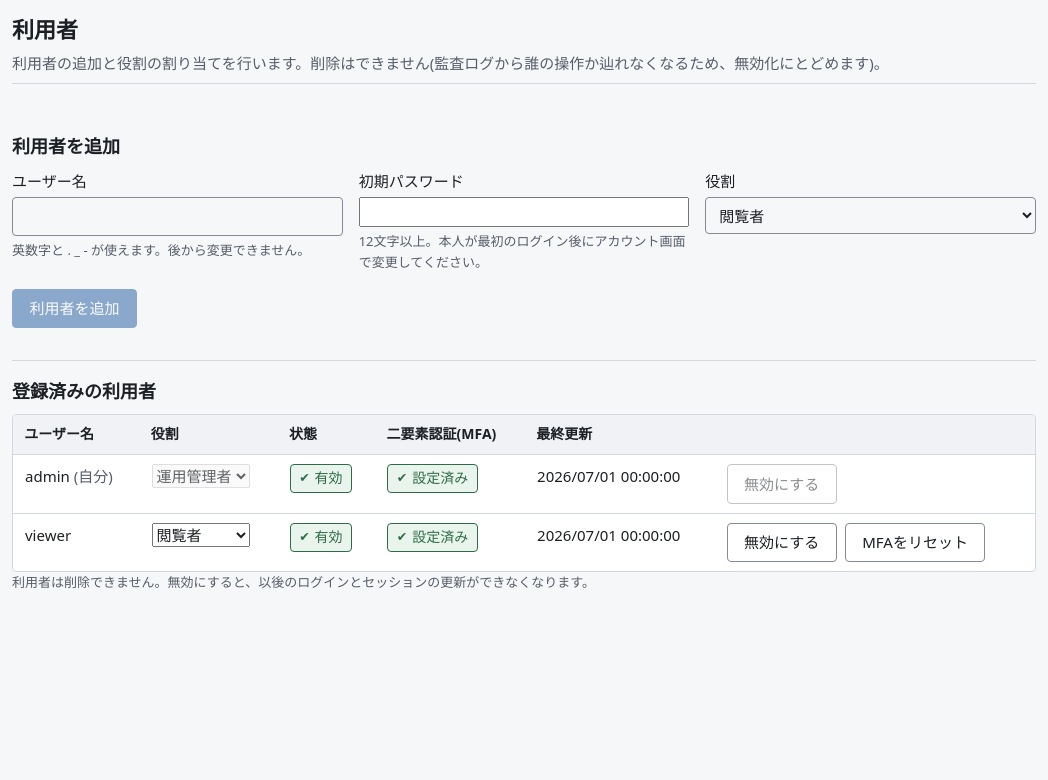
Test case: UsersView › 最後の管理者を降格しようとしたら理由を出す
The width and height of the screenshot is (1048, 780).
Select "閲覧者" in the dropdown with id "role-2" at [201, 535], box [152,523,250,547]
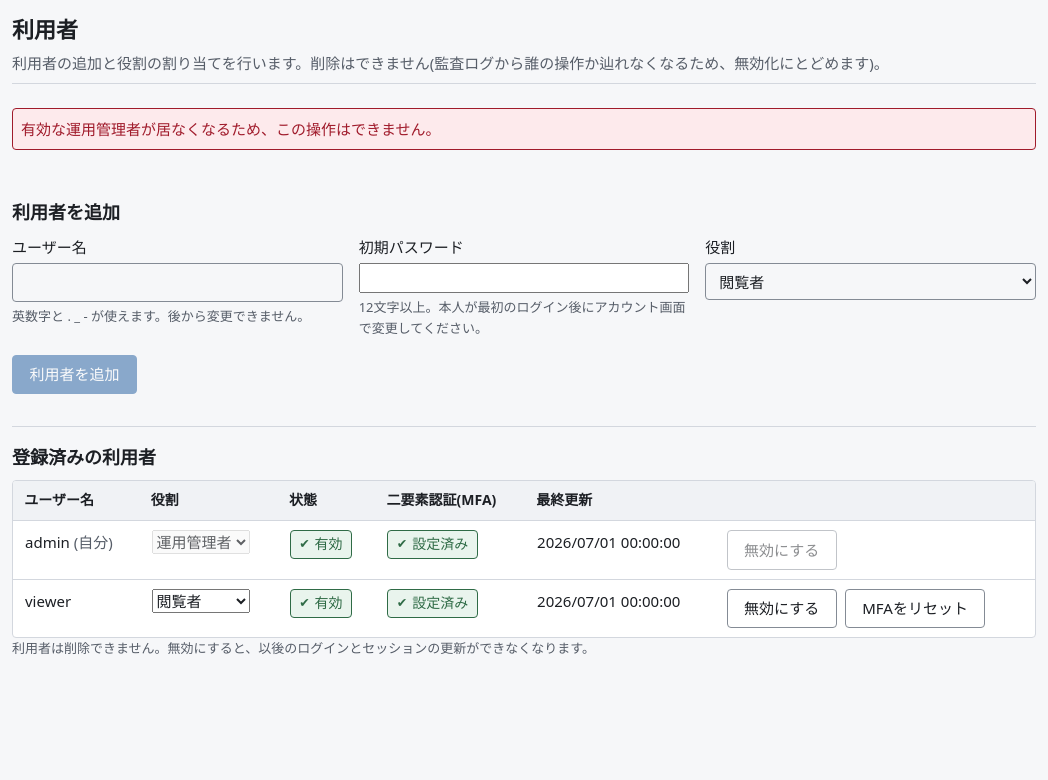
expect the text "有効な運用管理者が居なくなるため" is shown: met, box [21,119,441,139]
